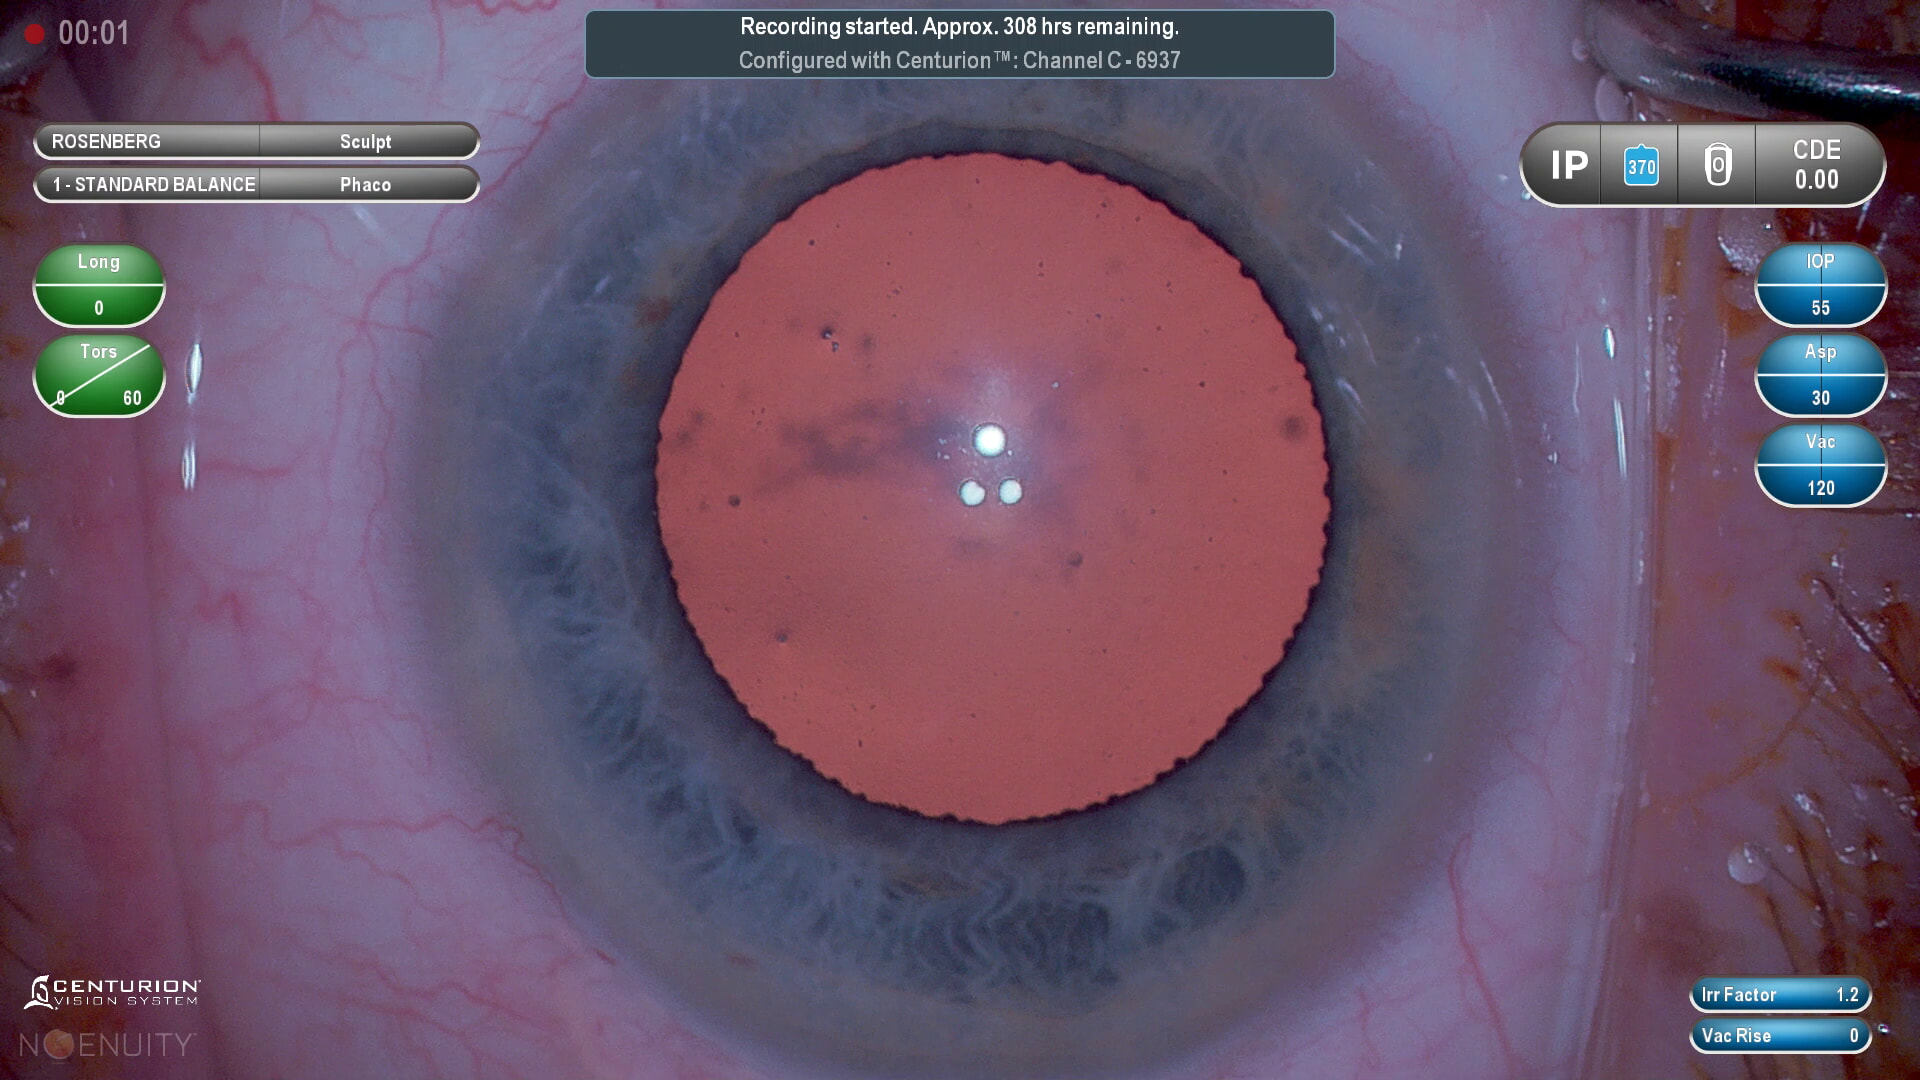iris: (462, 11, 1486, 997)
pupil: (655, 143, 1344, 819)
